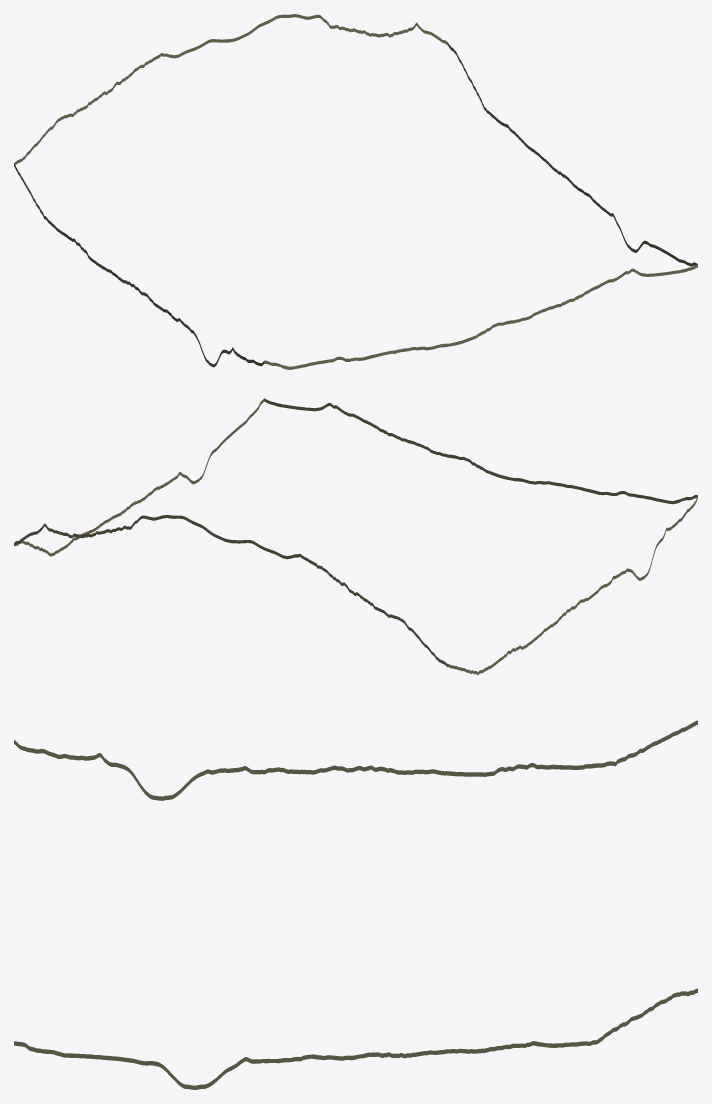
The model's file is CosturaTerreno.glb.
3 renders of one model, top to bottom at view 1: azimuth 30°, elevation 25°; view 2: azimuth 150°, elevation 25°; view 3: azimuth 270°, elevation 25°, orthographic. The views are drawn at different scales.
Parts seen in each view (by area): view 1: CosturaTerreno; view 2: CosturaTerreno; view 3: CosturaTerreno.
Part boxes in pixels (x1=…): CosturaTerreno: x1=14, y1=14, x2=697, y2=369; CosturaTerreno: x1=14, y1=398, x2=697, y2=675; CosturaTerreno: x1=14, y1=720, x2=697, y2=1089.
Size of the model in its own units: 1280 by 402 by 1280.
